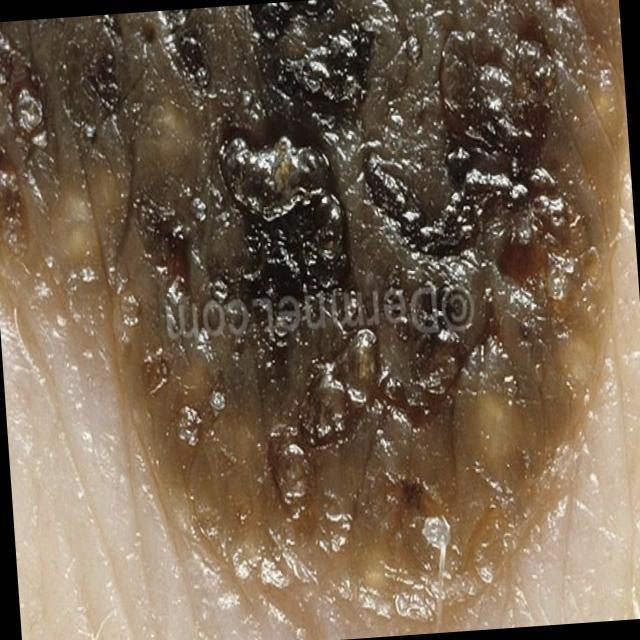Eczema: (0, 2, 602, 605)
